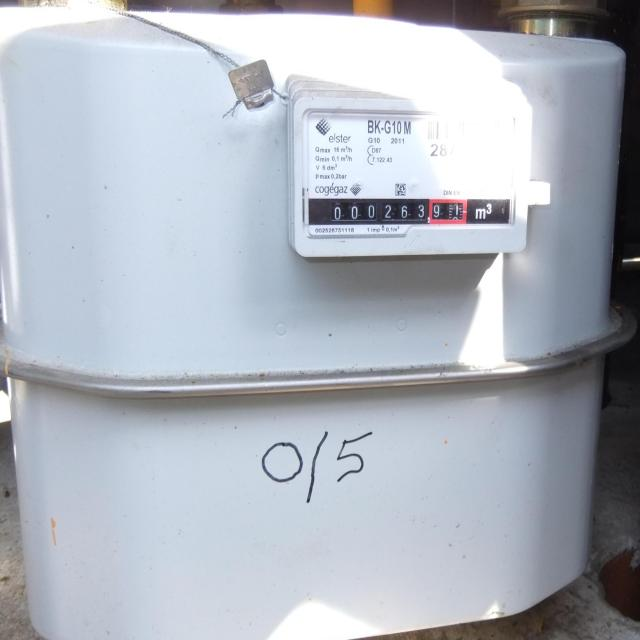gaz_meter: (304, 110, 517, 228)
indication: (320, 198, 473, 230)
